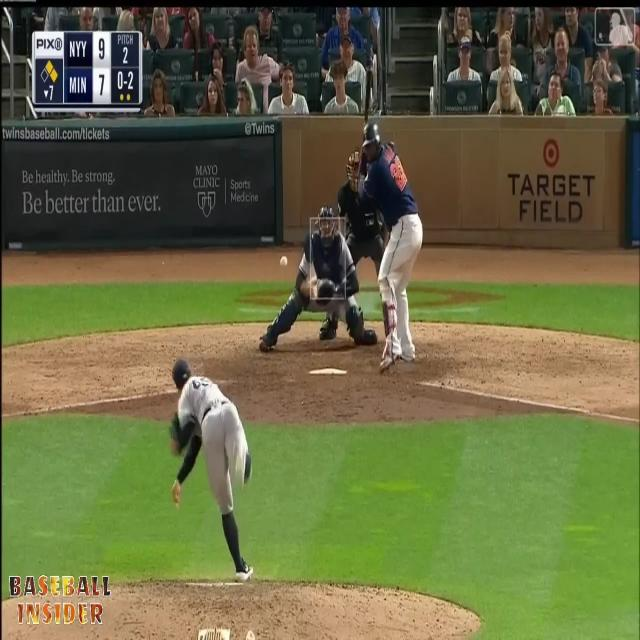baseball: (279, 253, 289, 270)
